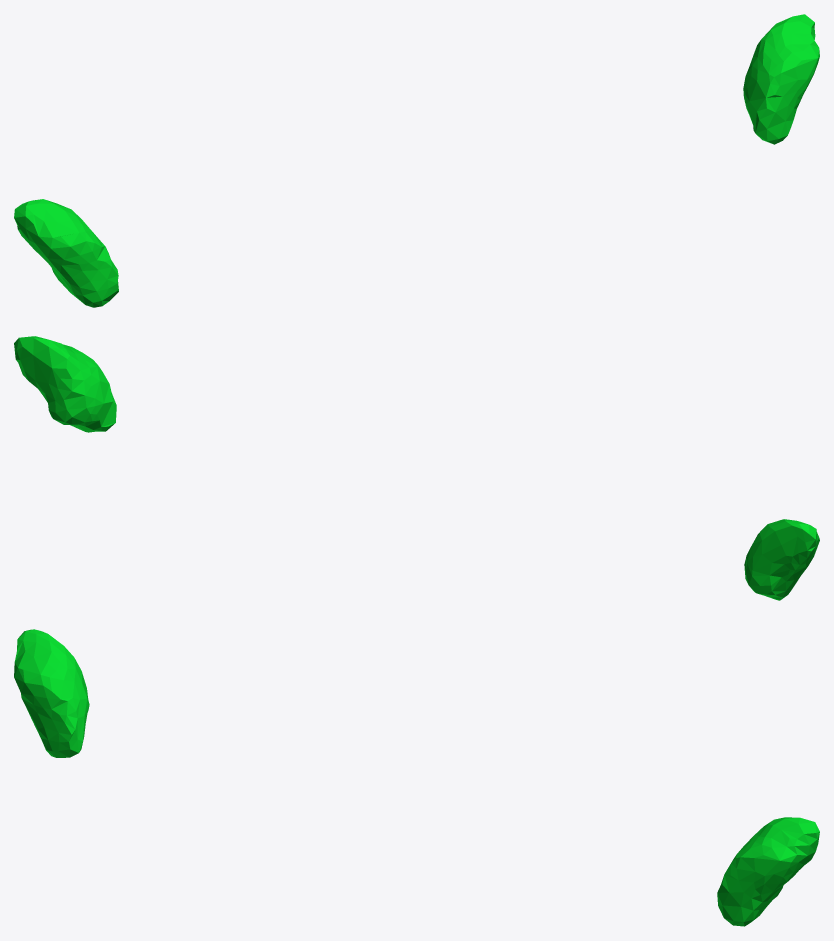
The model's file is 15-PaAR-paraauditory cortex, rostral part-('0.0000', '1.0000', '0.1882').obj.
The picture shows the model from 3 angles, top to bottom: view 1: azimuth 30°, elevation 25°; view 2: azimuth 150°, elevation 25°; view 3: azimuth 330°, elevation 25°; orthographic projection.
Size of the model in its own units: 322 by 39.02 by 23.11.
